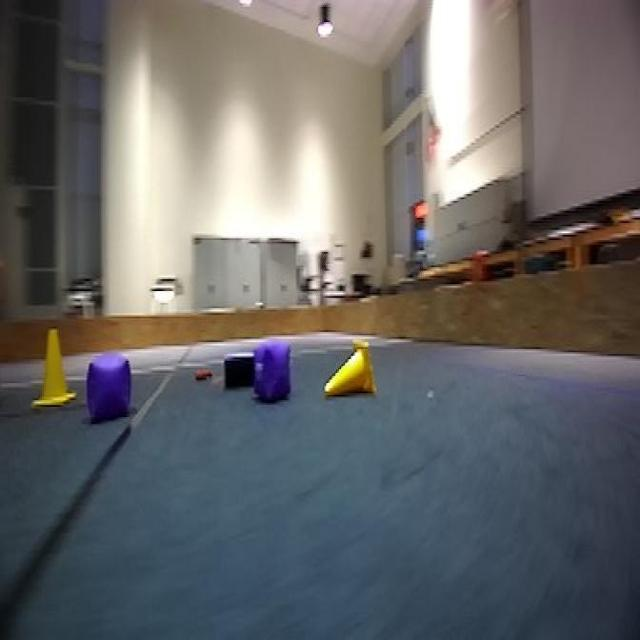frc_cone: (322, 336, 379, 408), (32, 324, 76, 411)
frc_cube: (252, 339, 294, 407), (88, 358, 132, 420)
